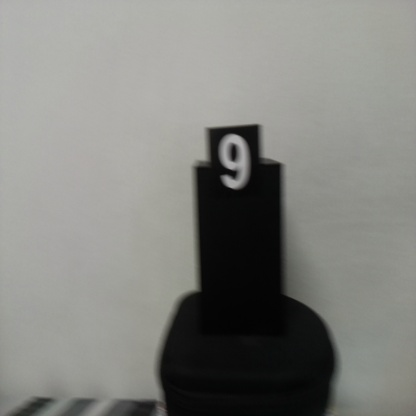id_9: (208, 127, 262, 211)
